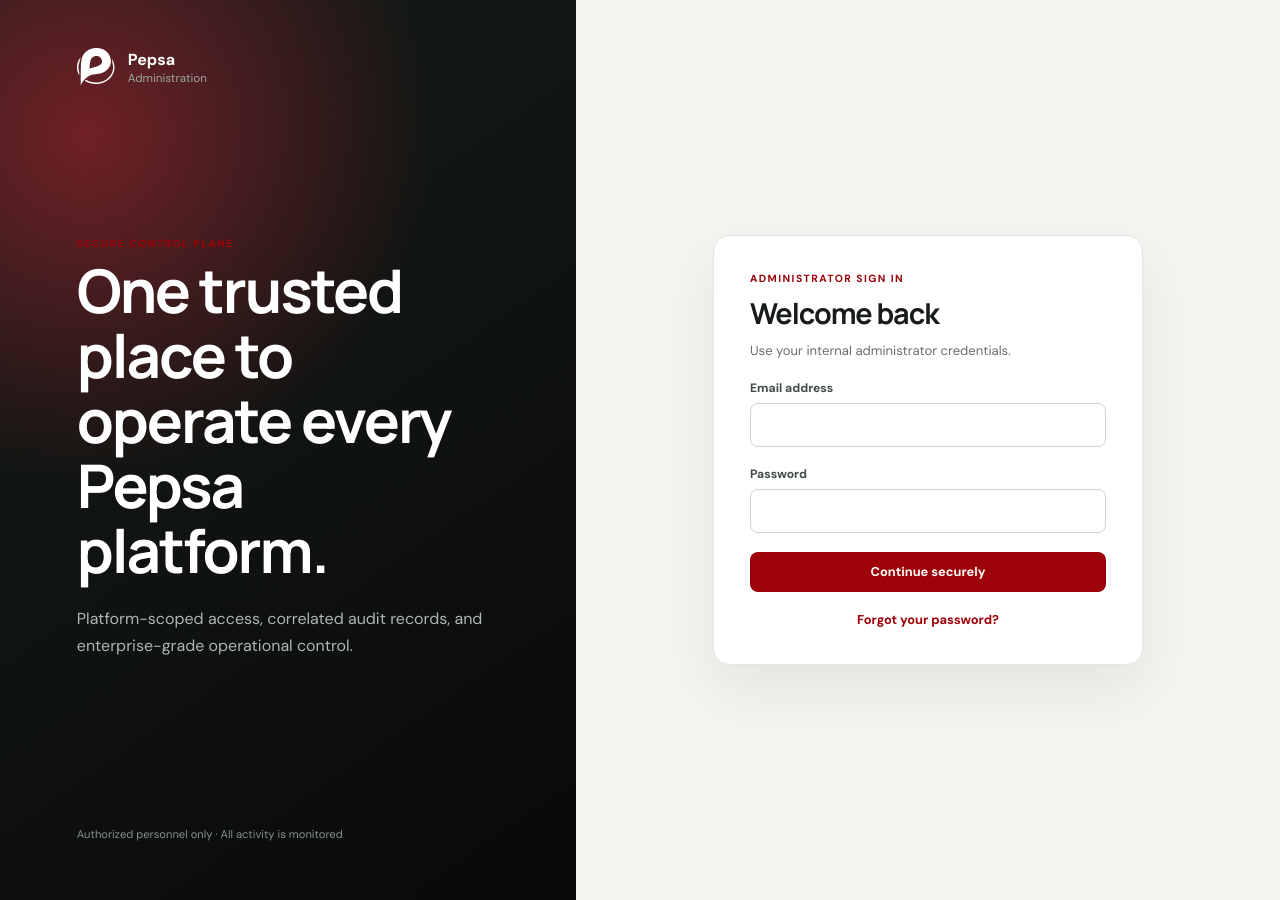
Scenario: admin authentication boundary › provides an accessible password-recovery workflow
Click the button "Forgot your password?" at point(928, 619), box [750,611,1106,628]
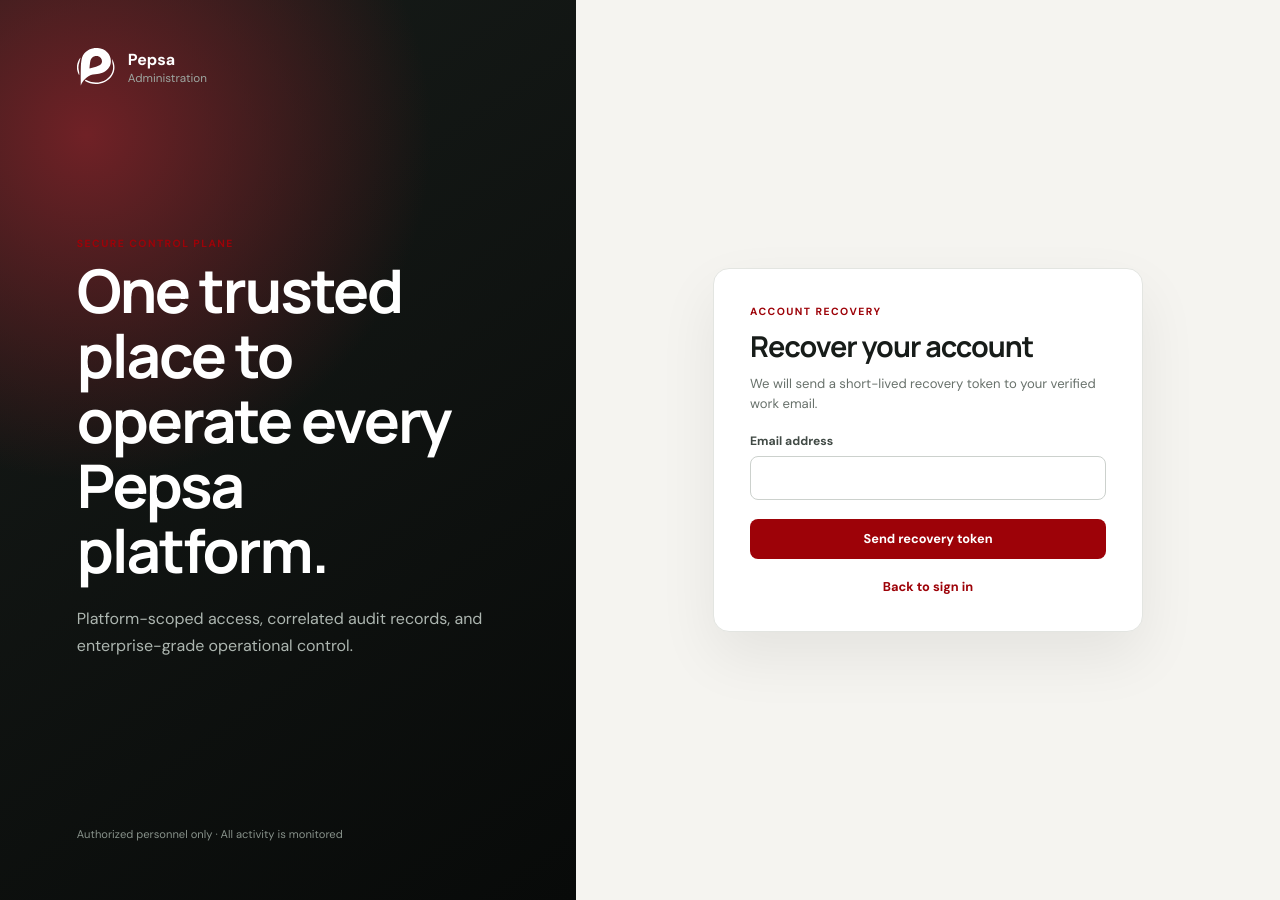
expect the heading "Recover your account" is shown: met, box [750,326,1033,366]
